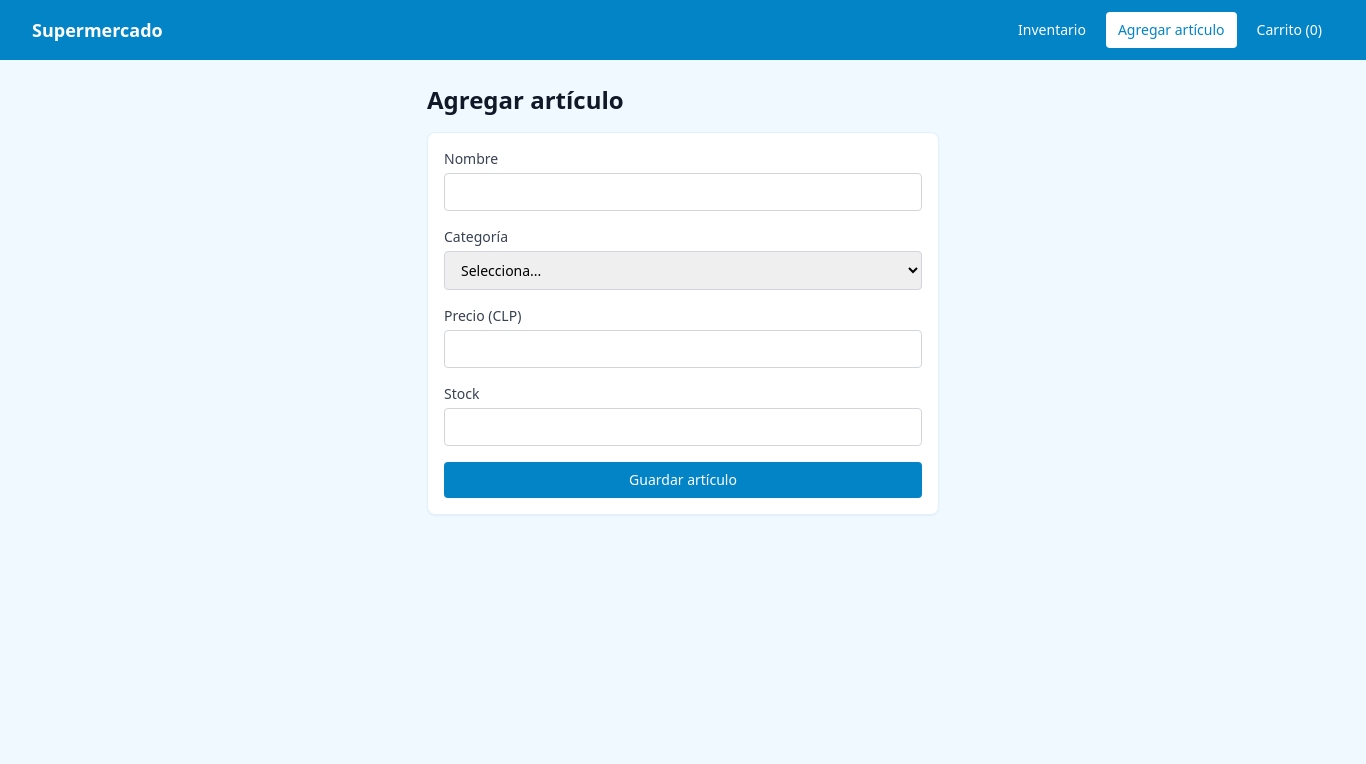
it: Inventario agrupado y filtro › un artículo nuevo aparece en su categoría
Type "Queso gauda" into the field labelled "Nombre" at (683, 192), box left=444, top=173, right=922, bottom=211
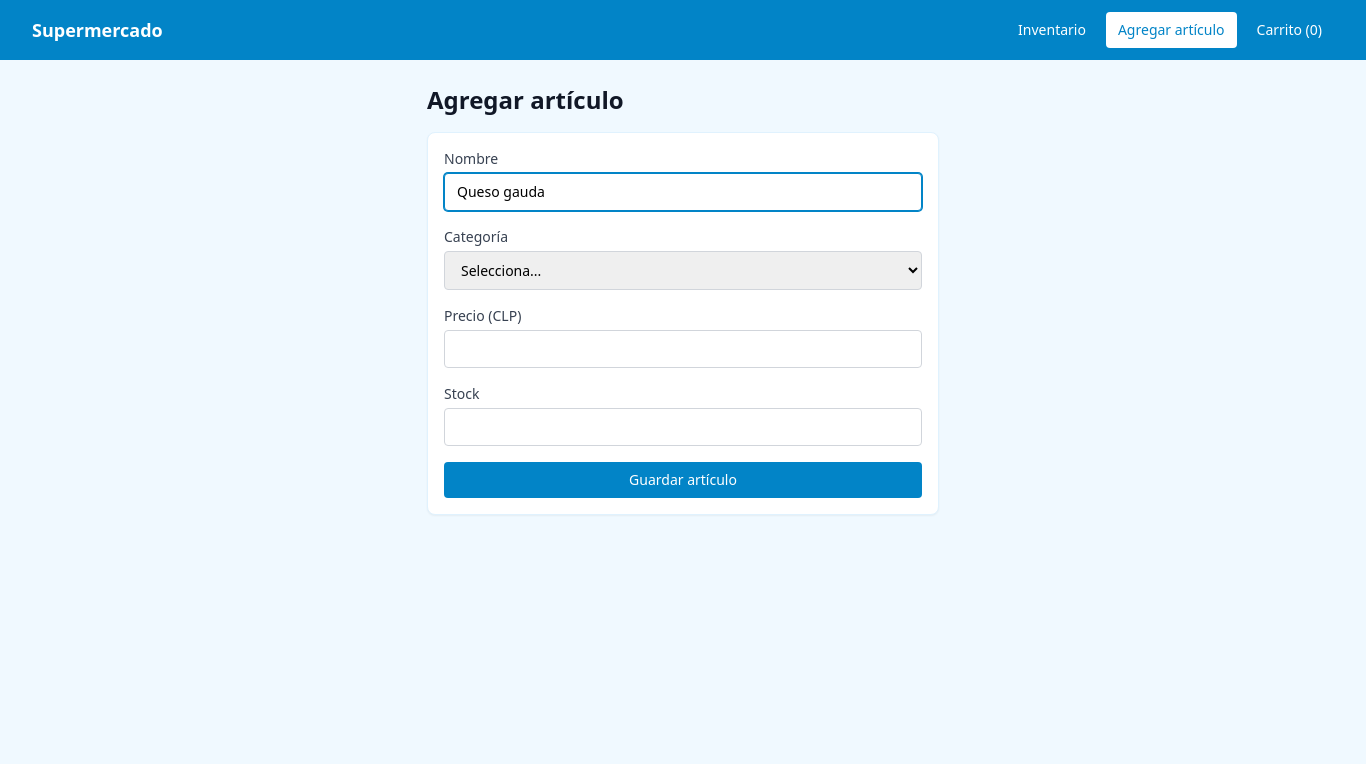
Select "Lácteos" in the dropdown labelled "Categoría" at (683, 270), box left=444, top=251, right=922, bottom=290
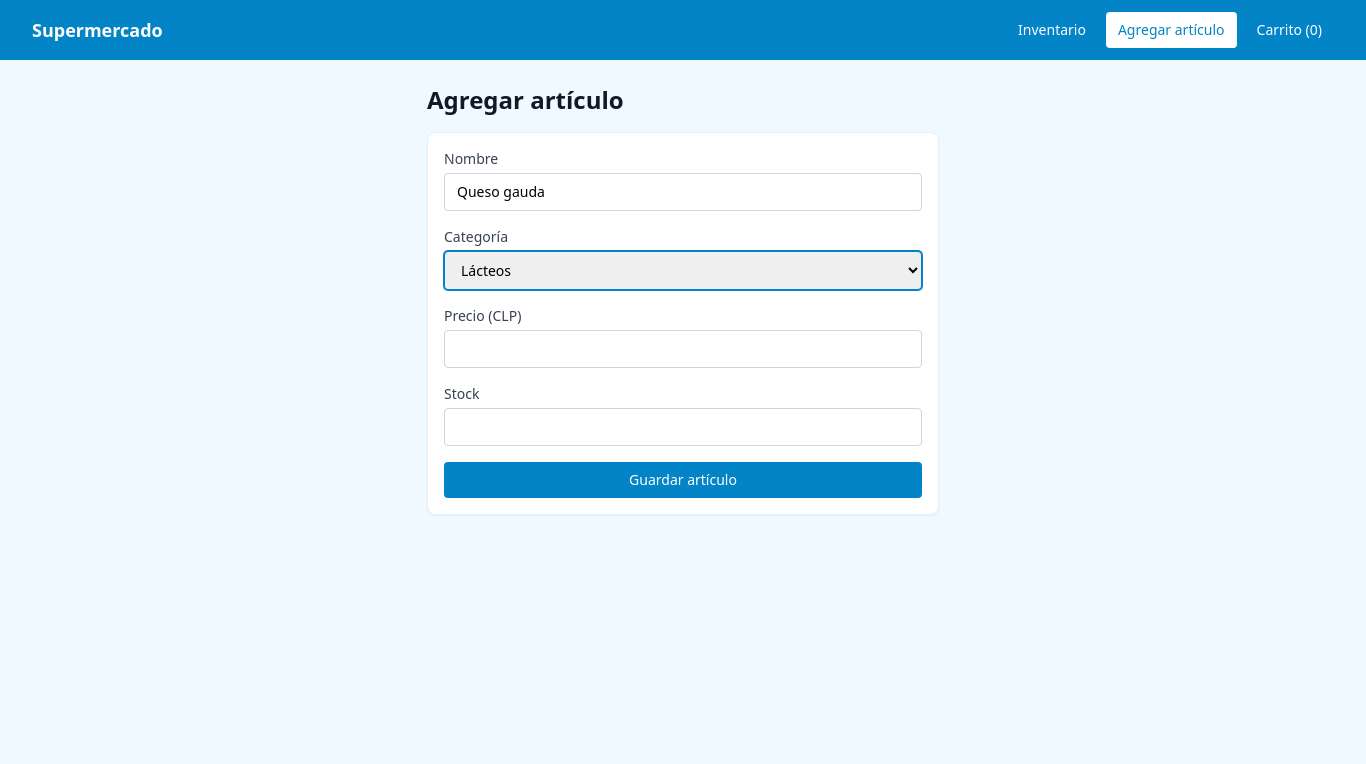
Type "3500" into the number field labelled "Precio (CLP)" at (683, 349), box left=444, top=330, right=922, bottom=368
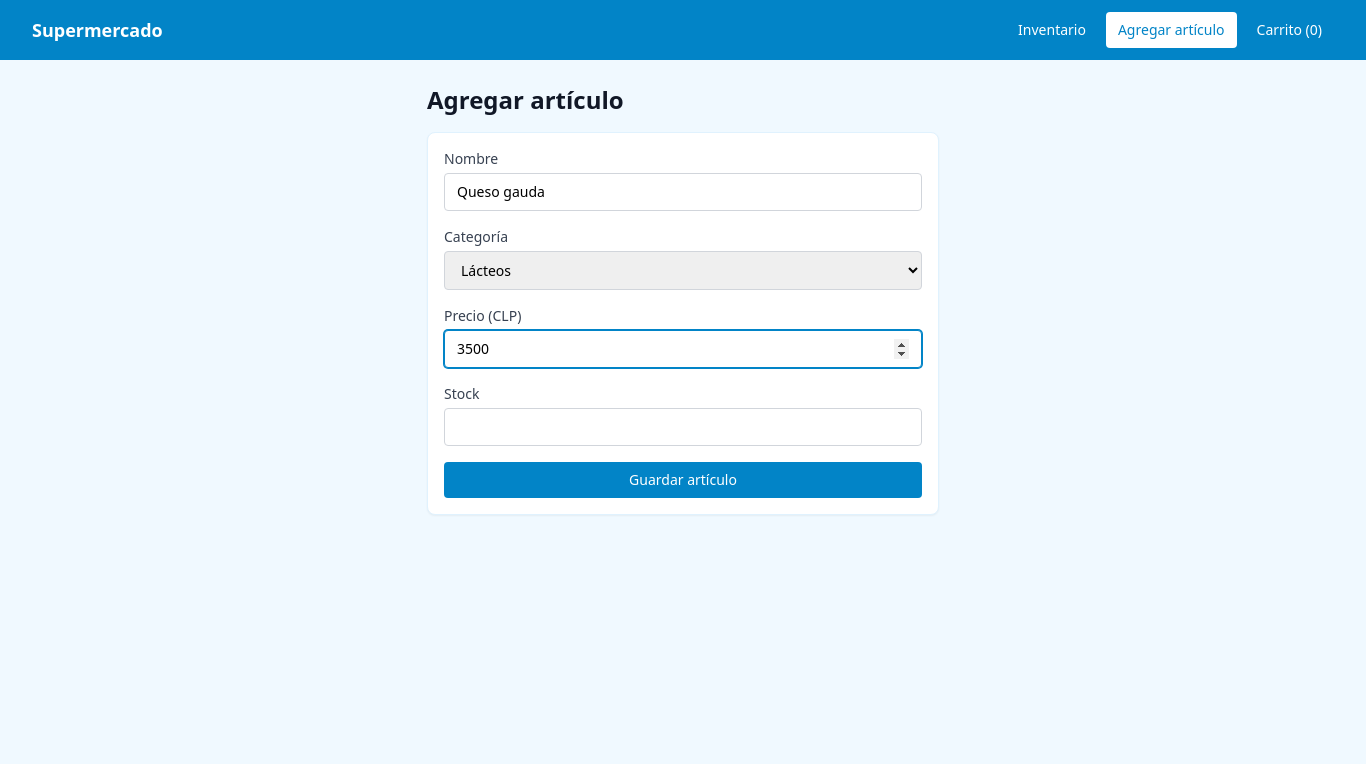
Type "4" into the number field labelled "Stock" at (683, 427), box left=444, top=408, right=922, bottom=446
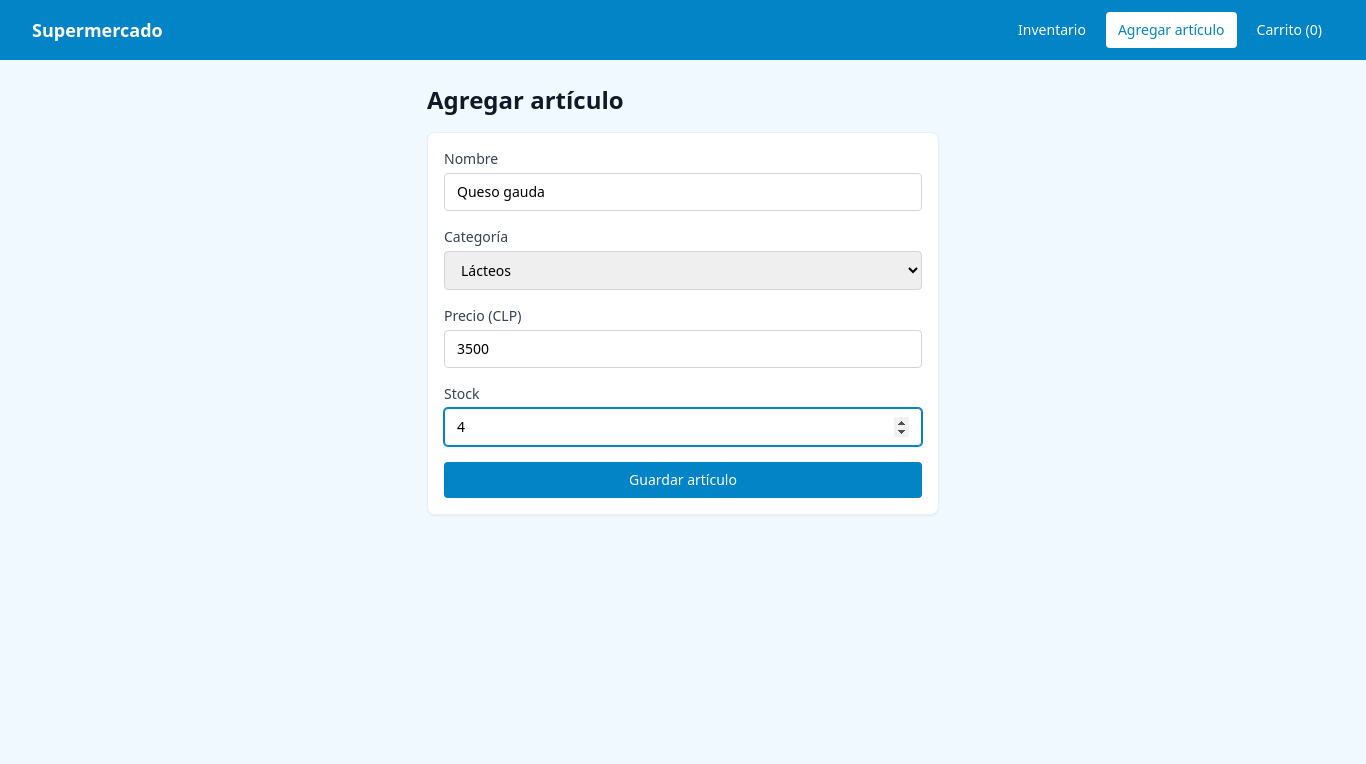
Click the button "Guardar artículo" at (683, 480), box left=444, top=462, right=922, bottom=498
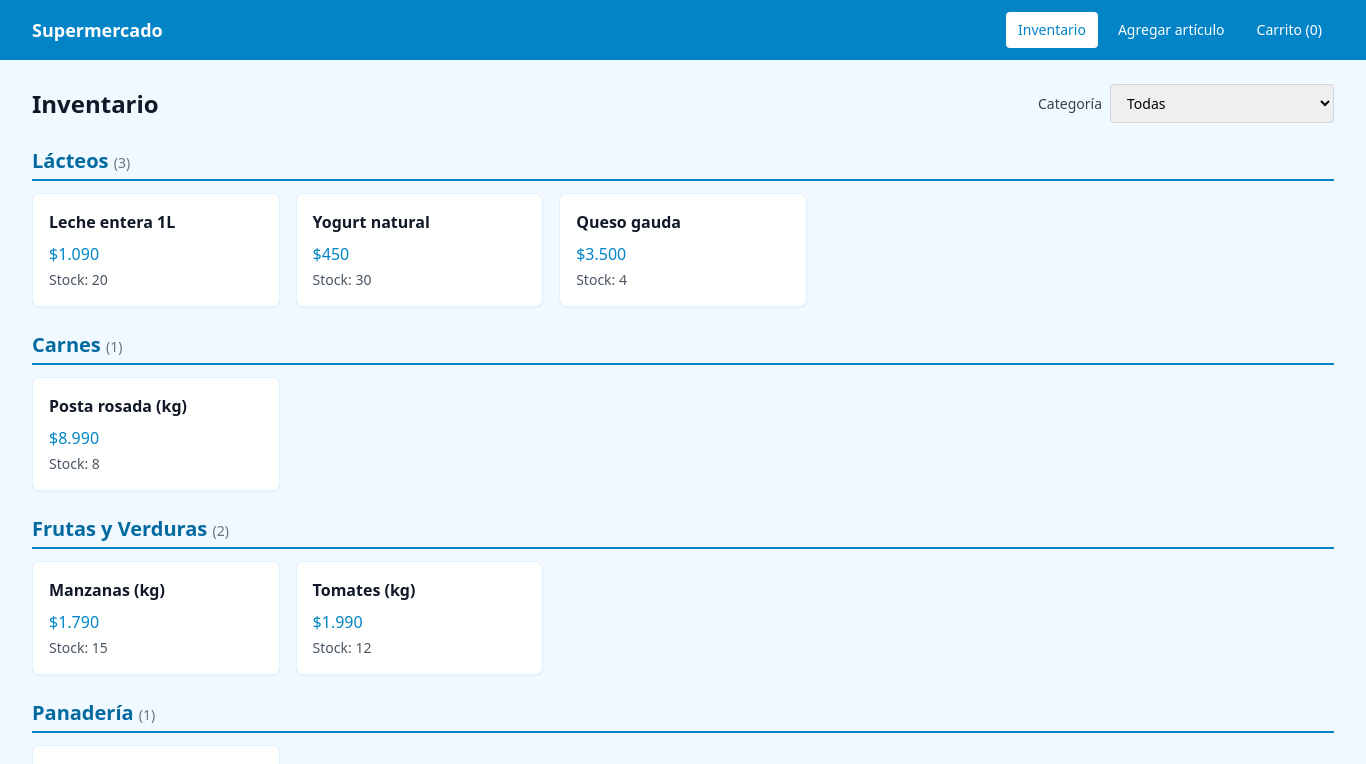
Now the heading "Queso gauda" is shown, box left=576, top=211, right=681, bottom=233
